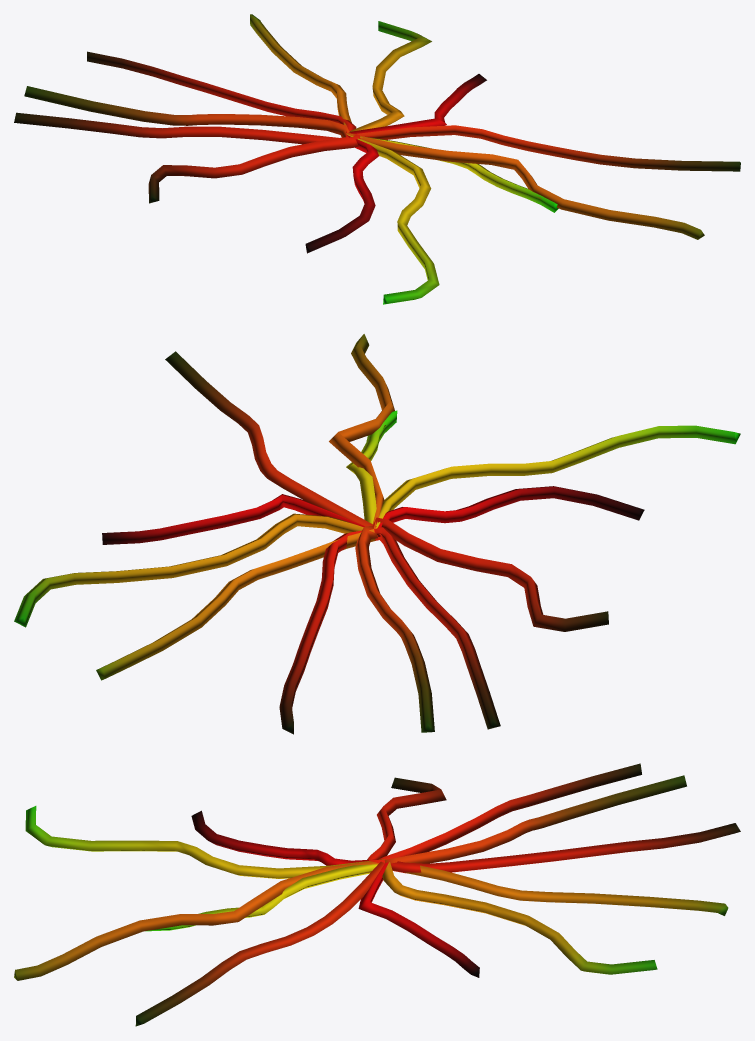
Rendered from Alien05.fbx.
3 renders of one model, top to bottom at view 1: azimuth 30°, elevation 25°; view 2: azimuth 150°, elevation 25°; view 3: azimuth 270°, elevation 25°, orthographic. The views are drawn at different scales.
Visible parts, largest first — view 1: transform5; view 2: transform5; view 3: transform5.
Boxes of the visible parts, x1,y1,x2,y2 form: transform5: (14,14,740,304); transform5: (14,334,740,734); transform5: (14,763,740,1026).
Size of the model in its own units: 314 by 19.52 by 369.
